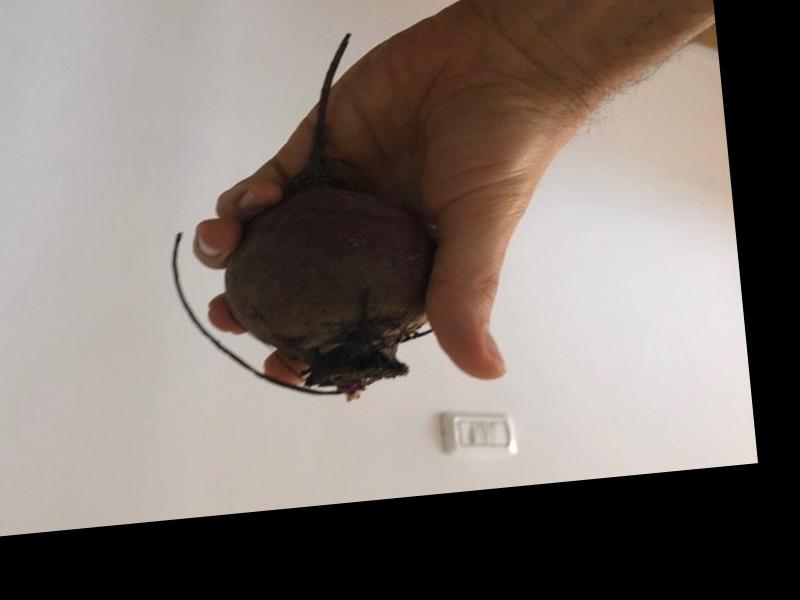Beet: (149, 28, 441, 415)
